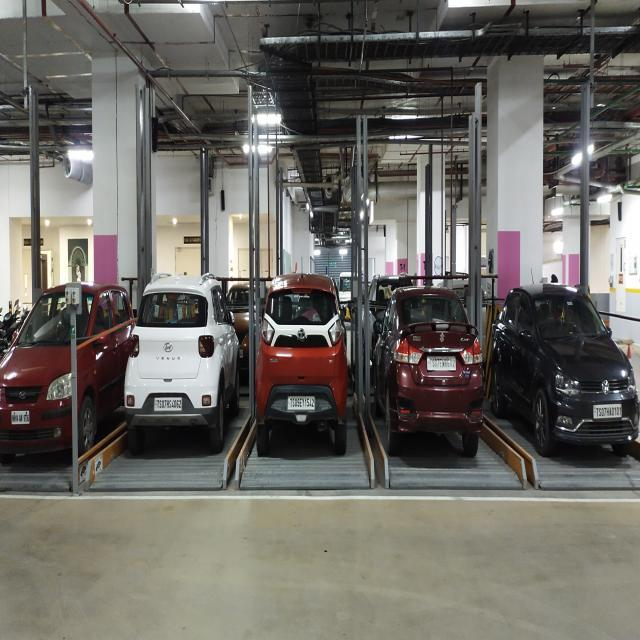car: (509, 312, 603, 472), (385, 318, 468, 459), (132, 329, 220, 457), (264, 321, 346, 458), (9, 315, 86, 457)
